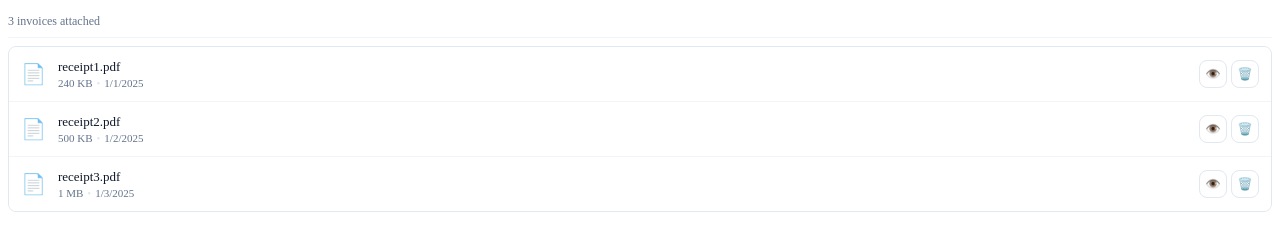
Scenario: InvoiceList › cancels delete when clicking cancel button
# Click delete then cancel
Click the 1st button titled "Delete invoice" at (1245, 74), box [1231,60,1259,88]
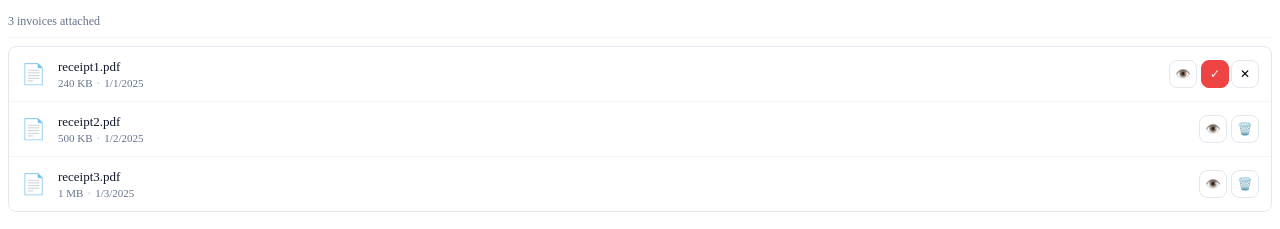
Click the button titled "Cancel delete" at (1245, 74), box [1231,60,1259,88]
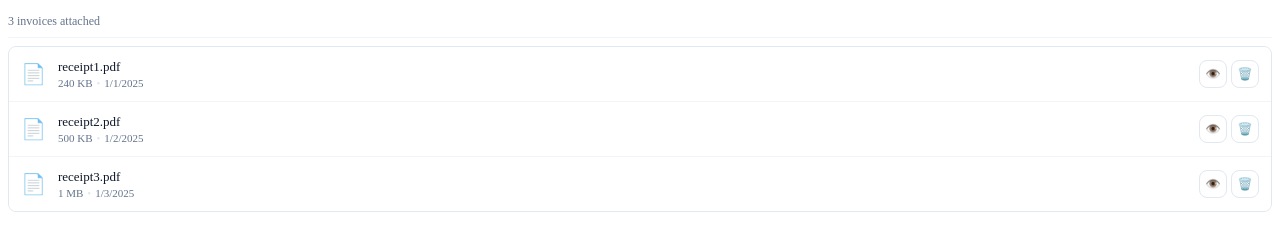
expect the number of buttons titled "Delete invoice" is 3: met, box [1231,60,1259,88]; [1231,115,1259,143]; [1231,170,1259,198]
